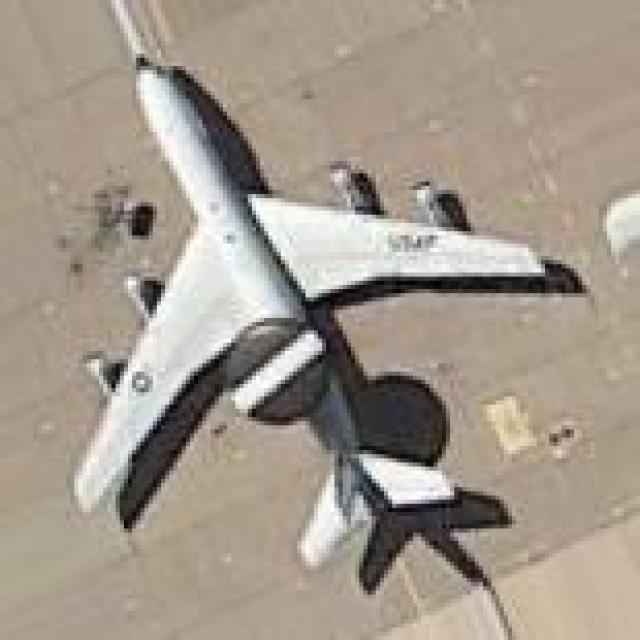E-3_TopDown: (63, 55, 598, 590)
